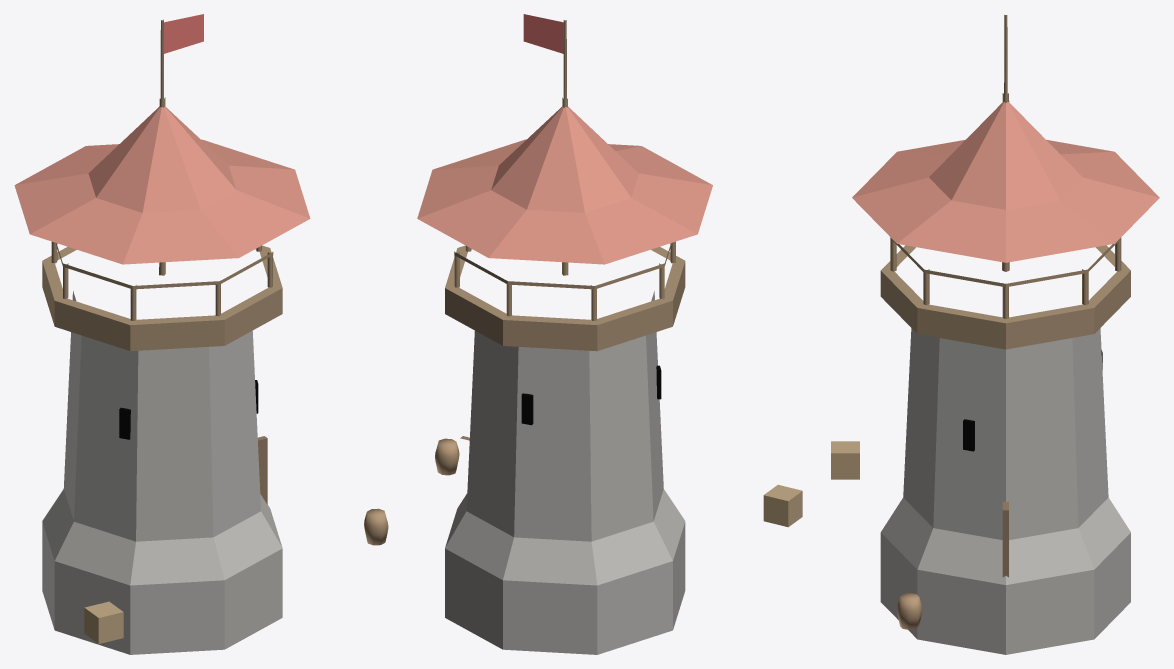
The model's file is struct_5_4.glb.
The picture shows the model from 3 angles, left to right: view 1: azimuth 30°, elevation 25°; view 2: azimuth 150°, elevation 25°; view 3: azimuth 270°, elevation 25°; orthographic projection.
Parts seen in each view (by area): view 1: Landmarks; view 2: Landmarks; view 3: Landmarks.
Part boxes in pixels (x1,y1,x2,y2): Landmarks: (14,14,388,654); Landmarks: (417,14,802,654); Landmarks: (831,15,1159,654).
Bounding box in the file's own units: 11.85 × 20.2 × 10.25.
